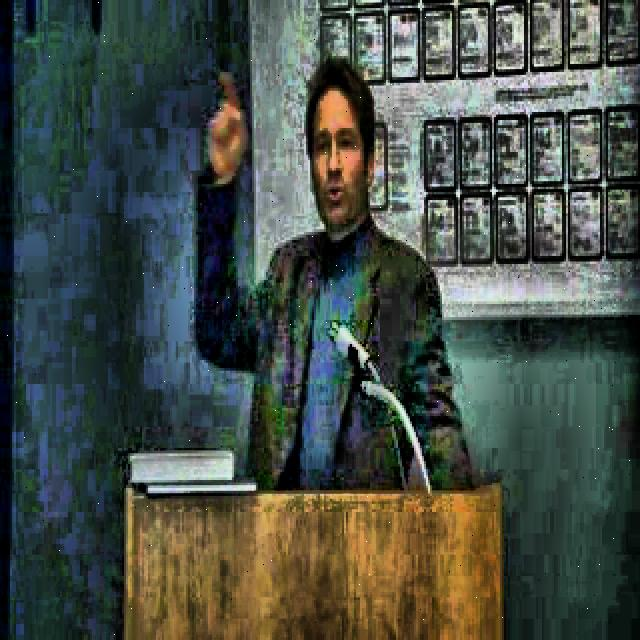T: (180, 46, 476, 499)
